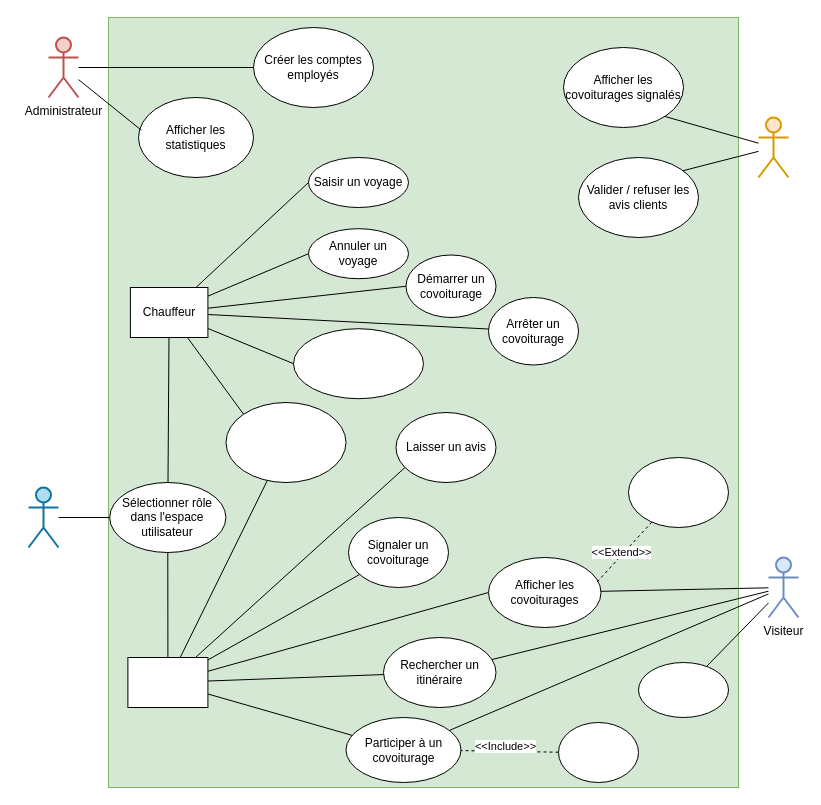
Image size: 821x805. Some labels were removed from this diagram. Each missing label, with the box of its shape:
Afficher l'historique des covoiturages: (225, 402, 346, 482)
Connexion: (558, 722, 638, 782)
Employé: (757, 116, 789, 178)
Filtrer les covoiturages: (628, 456, 728, 528)
Inscription: (638, 662, 728, 718)
Passager: (127, 656, 208, 708)
Saisir informations et préférences: (292, 328, 424, 399)
Utilisateur: (27, 486, 59, 548)
